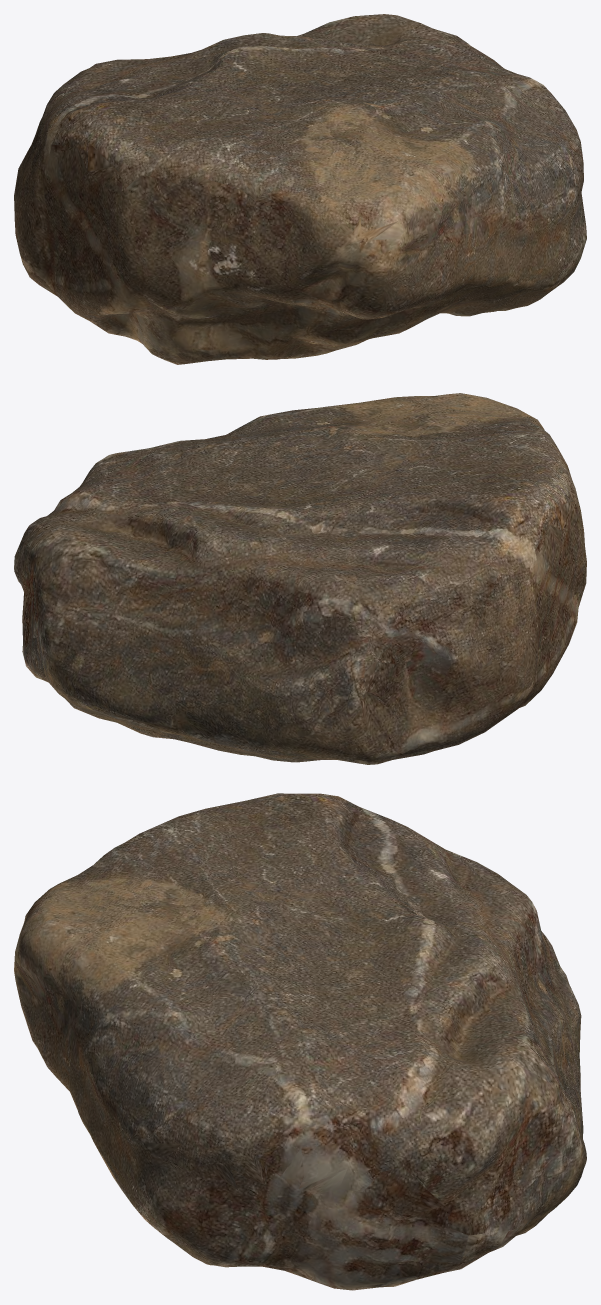
File: st_rock_6.gltf
3 views of the same model, one above another, from view 1: azimuth 30°, elevation 25°; view 2: azimuth 150°, elevation 25°; view 3: azimuth 270°, elevation 25° (orthographic). The views are drawn at different scales.
Parts seen in each view (by area): view 1: Rock_6; view 2: Rock_6; view 3: Rock_6.
Part boxes in pixels (x1,y1,x2,y2): Rock_6: (14,14,586,364); Rock_6: (14,393,586,764); Rock_6: (14,793,586,1290).
Bounding box in the file's own units: 0.5368 × 0.2754 × 0.5029.
Materials: 1 (1 with a texture image).
